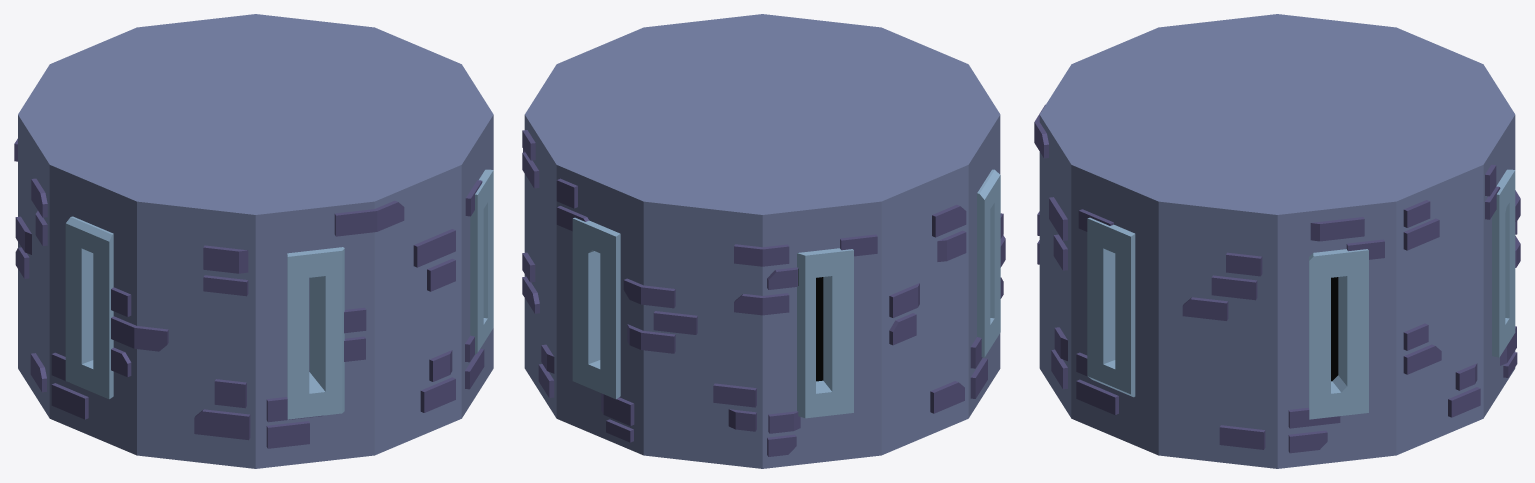
The model's file is Wall_Tower_02.fbx.
The picture shows the model from 3 angles, left to right: view 1: azimuth 30°, elevation 25°; view 2: azimuth 150°, elevation 25°; view 3: azimuth 270°, elevation 25°; orthographic projection.
Parts seen in each view (by area): view 1: Wall_Tower_02; view 2: Wall_Tower_02; view 3: Wall_Tower_02.
Part boxes in pixels (left/top/right/bottom): Wall_Tower_02: left=14, top=14, right=493, bottom=468; Wall_Tower_02: left=522, top=14, right=1005, bottom=468; Wall_Tower_02: left=1034, top=14, right=1520, bottom=468.
Bounding box in the file's own units: 1373 × 800 × 1388.
